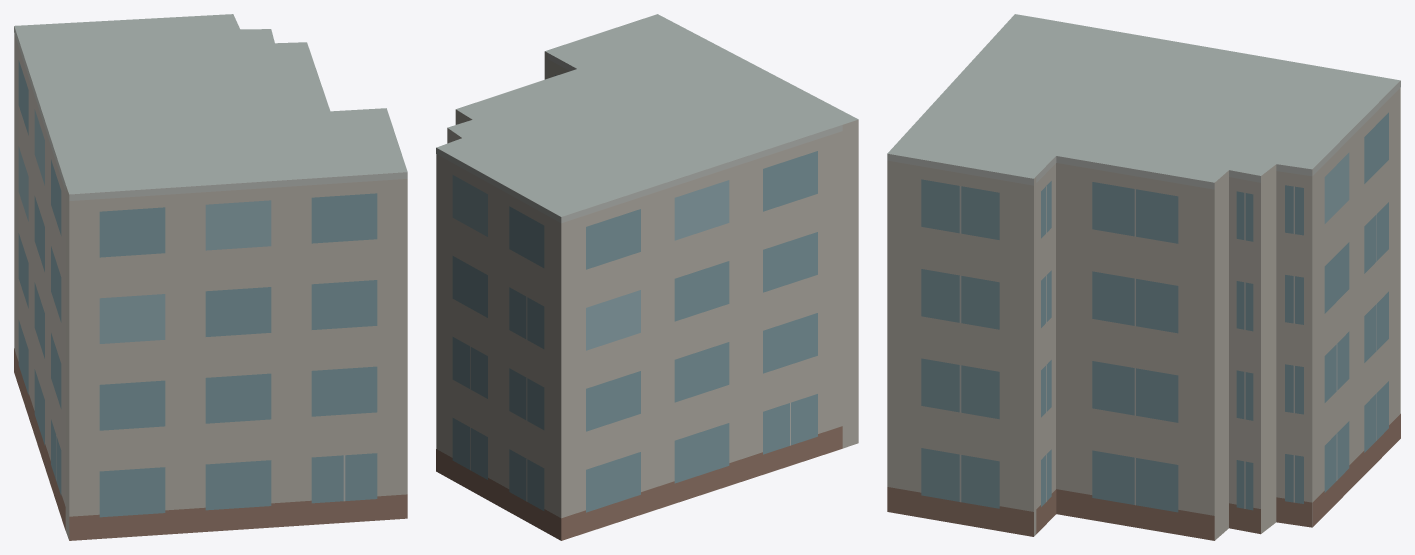
File: survey-upis-32491759.glb
3 views of the same model, side by side, from view 1: azimuth 30°, elevation 25°; view 2: azimuth 150°, elevation 25°; view 3: azimuth 270°, elevation 25° (orthographic). The views are drawn at different scales.
Visible parts, largest first — view 1: survey-upis-32491759.tmp; view 2: survey-upis-32491759.tmp; view 3: survey-upis-32491759.tmp.
Part boxes in pixels (left/top/right/bottom): survey-upis-32491759.tmp: left=14, top=14, right=407, bottom=540; survey-upis-32491759.tmp: left=436, top=14, right=858, bottom=540; survey-upis-32491759.tmp: left=887, top=14, right=1400, bottom=540.
Size of the model in its own units: 12.79 by 12.65 by 16.45.
